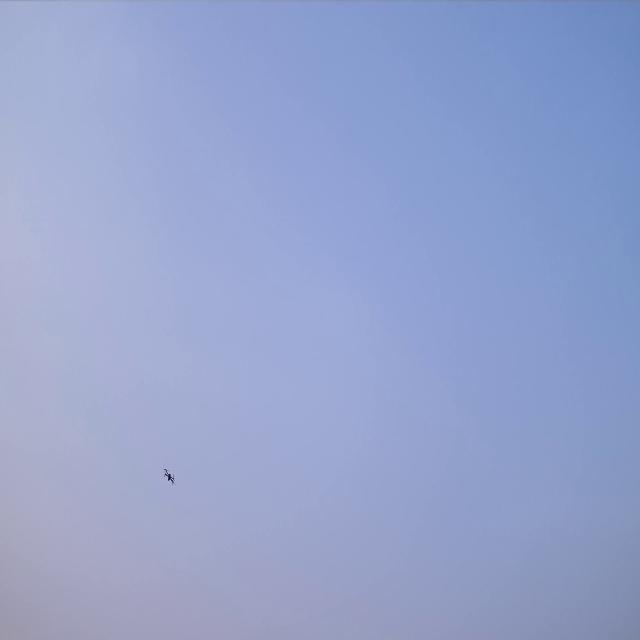UAV: (164, 469, 173, 484)
